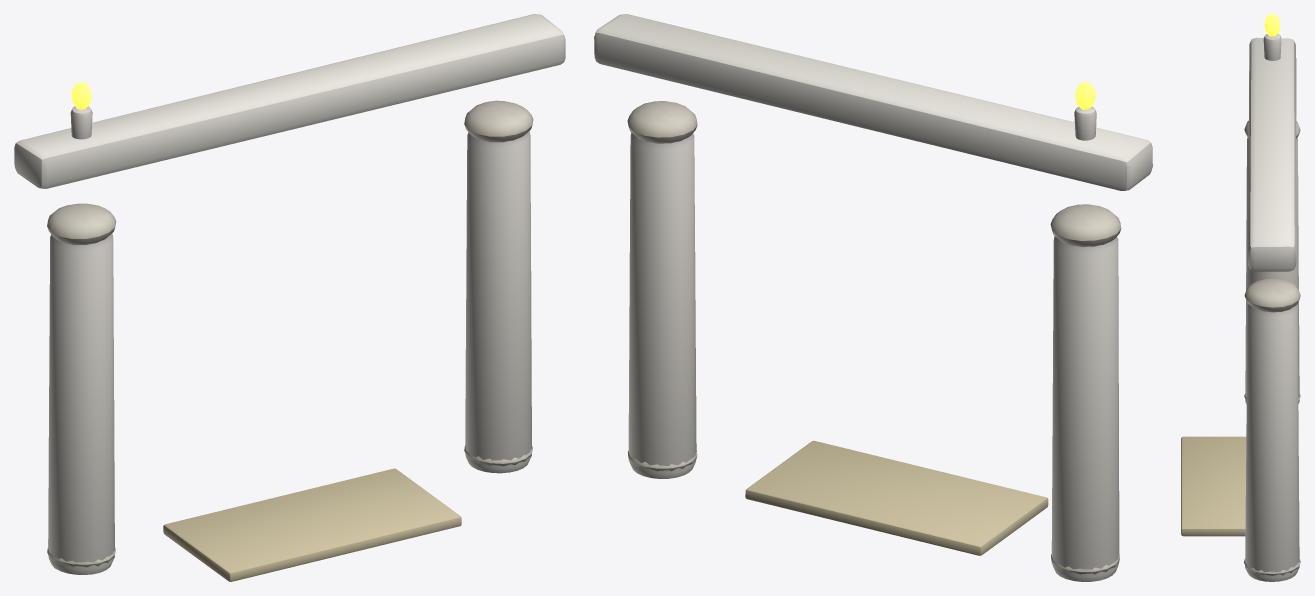
3 views of the same model, side by side, from view 1: azimuth 30°, elevation 25°; view 2: azimuth 150°, elevation 25°; view 3: azimuth 270°, elevation 25° (orthographic). The views are drawn at different scales.
Visible parts, largest first — view 1: gate_ef25ba38; view 2: gate_ef25ba38; view 3: gate_ef25ba38.
Boxes of the visible parts, <box> form: gate_ef25ba38: <box>14,14,565,581</box>; gate_ef25ba38: <box>594,14,1152,581</box>; gate_ef25ba38: <box>1181,14,1300,581</box>.
Size of the model in its own units: 5.45 by 4.75 by 1.31.
